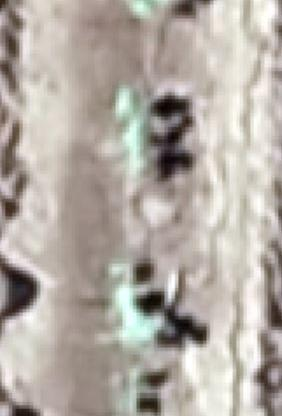cotton: (113, 85, 136, 118), (126, 117, 147, 151), (130, 314, 162, 333), (121, 331, 152, 347), (116, 289, 135, 312), (131, 152, 148, 177), (112, 265, 133, 283), (134, 2, 161, 15), (129, 371, 144, 388), (125, 394, 135, 411)
